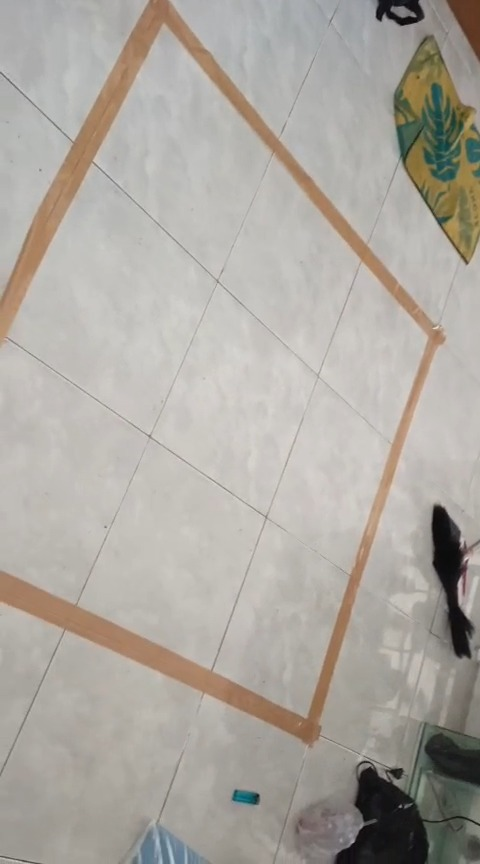floor marking: (0, 0, 444, 745)
